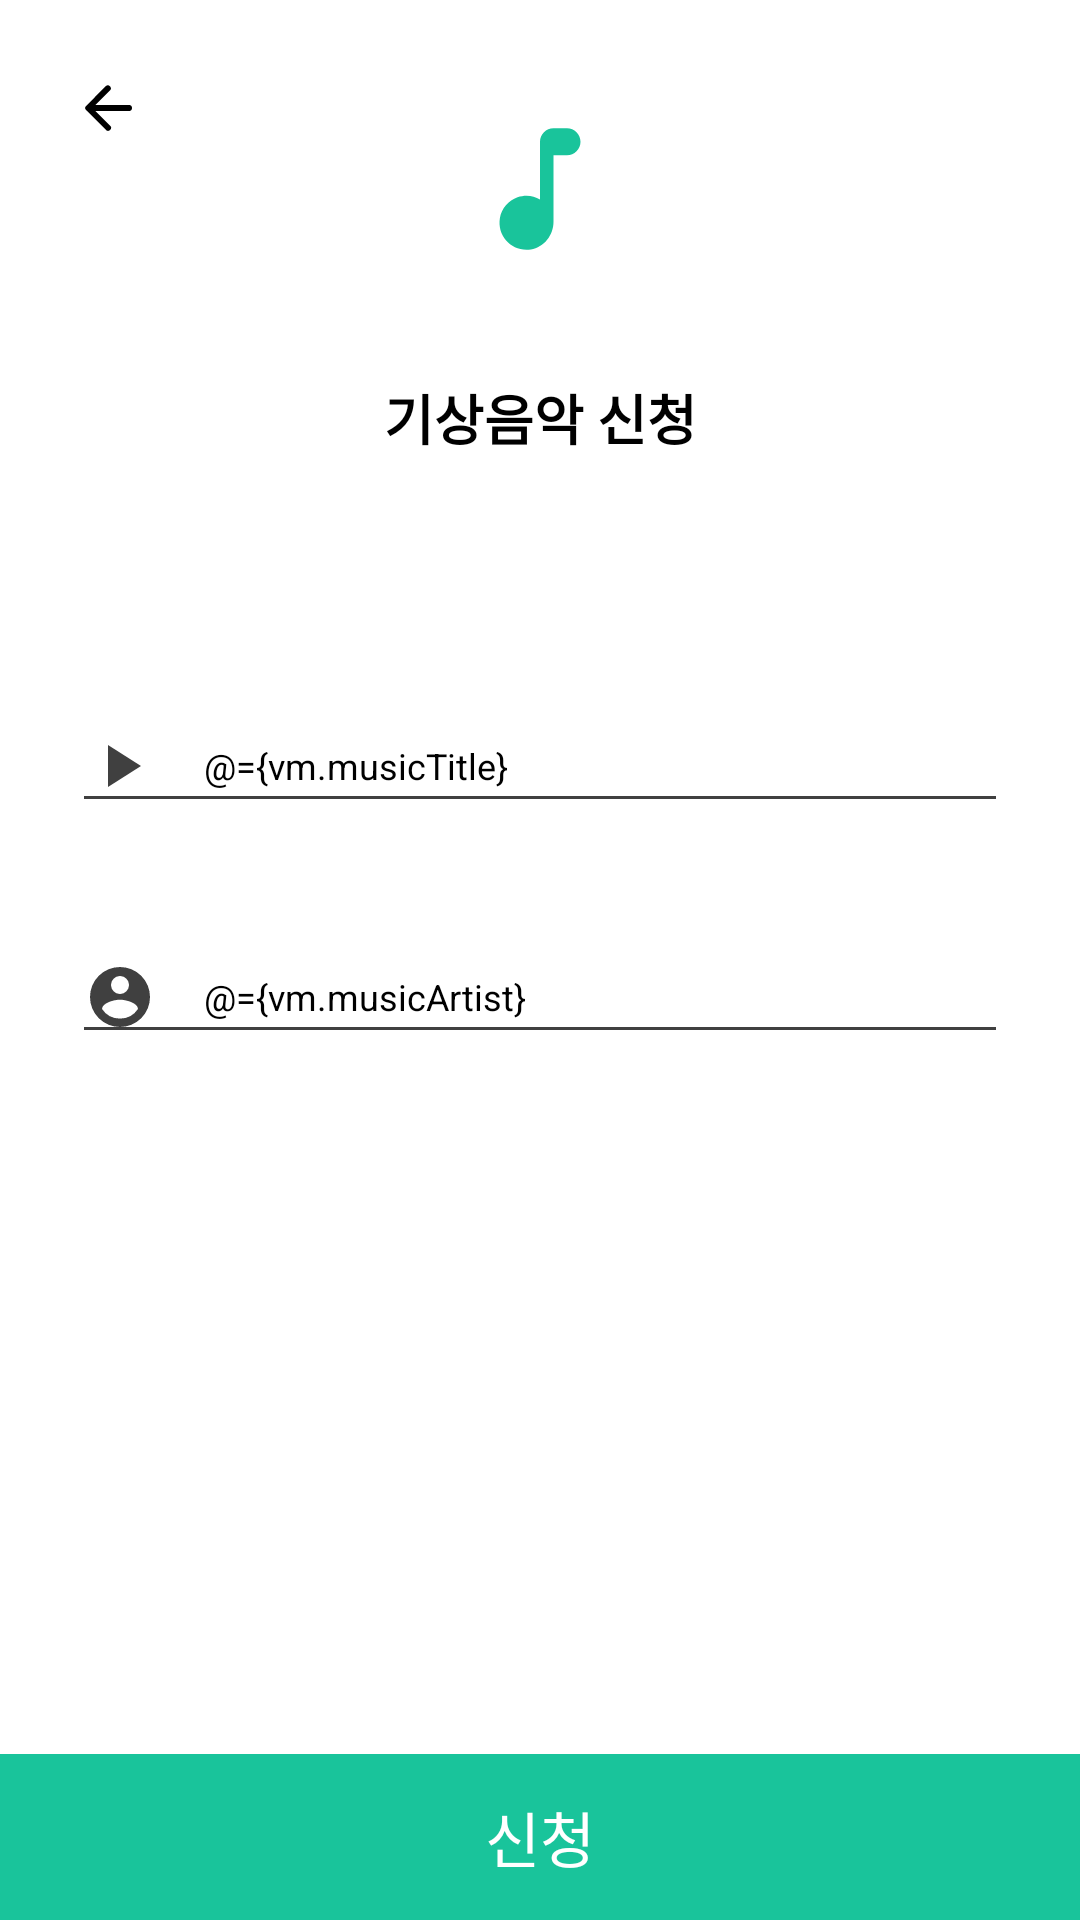

Icons on this 1080*1920 Android screen, each with the point to tap as [x,y]:
back: [108,108]
music: [540,189]
